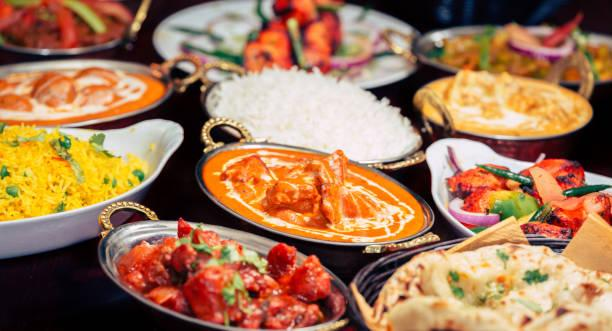Braised Crucian Carp: (186, 138, 439, 255), (97, 215, 352, 329), (2, 116, 186, 259), (431, 136, 612, 259)
